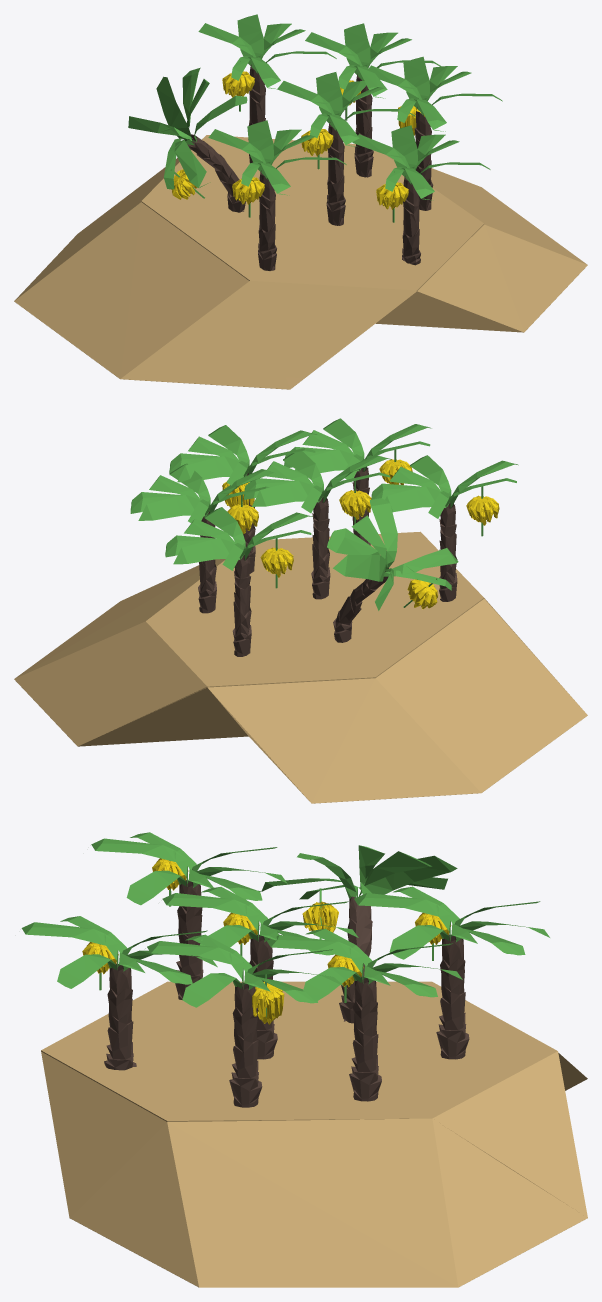
The model's file is Insel2.fbx.
The picture shows the model from 3 angles, top to bottom: view 1: azimuth 30°, elevation 25°; view 2: azimuth 150°, elevation 25°; view 3: azimuth 270°, elevation 25°; orthographic projection. The views are drawn at different scales.
Visible parts, largest first — view 1: Landschaft, Blätter_10, Blätter_8, Blätter, Blätter_4, Blätter_14, Blätter_12, Blätter_6, Stamm_12, Stamm, Stamm_4, Stamm_10 (+8 smaller); view 2: Landschaft, Blätter_10, Blätter_8, Blätter_12, Blätter, Blätter_14, Blätter_6, Blätter_4, Stamm_12, Stamm_8, Stamm, Stamm_10 (+6 smaller); view 3: Landschaft, Blätter_10, Blätter, Blätter_8, Blätter_4, Blätter_6, Blätter_14, Blätter_12, Stamm_6, Stamm_8, Stamm_14, Stamm_4 (+5 smaller).
Part boxes in pixels (left/top/right/bottom): Landschaft: left=14, top=135, right=587, bottom=389; Blätter_10: left=128, top=67, right=247, bottom=189; Blätter_8: left=198, top=14, right=336, bottom=89; Blätter: left=208, top=120, right=346, bottom=195; Blätter_4: left=352, top=125, right=490, bottom=200; Blätter_14: left=368, top=56, right=502, bottom=131; Blätter_12: left=277, top=72, right=415, bottom=146; Blätter_6: left=305, top=23, right=441, bottom=98; Stamm_12: left=326, top=122, right=345, bottom=225; Stamm: left=258, top=170, right=276, bottom=270; Stamm_4: left=402, top=176, right=420, bottom=265; Stamm_10: left=187, top=134, right=245, bottom=212; Landschaft: left=14, top=531, right=587, bottom=803; Blätter_10: left=327, top=498, right=458, bottom=610; Blätter_8: left=165, top=507, right=312, bottom=570; Blätter_12: left=244, top=449, right=391, bottom=513; Blätter: left=371, top=455, right=518, bottom=518; Blätter_14: left=169, top=425, right=316, bottom=488; Blätter_6: left=130, top=463, right=273, bottom=522; Blätter_4: left=284, top=418, right=431, bottom=482; Stamm_12: left=311, top=497, right=330, bottom=599; Stamm_8: left=232, top=554, right=251, bottom=656; Stamm: left=439, top=502, right=457, bottom=601; Stamm_10: left=333, top=568, right=388, bottom=642; Landschaft: left=41, top=981, right=587, bottom=1287; Blätter_10: left=258, top=845, right=457, bottom=899; Blätter: left=91, top=832, right=287, bottom=905; Blätter_8: left=354, top=886, right=549, bottom=959; Blätter_4: left=21, top=916, right=217, bottom=988; Blätter_6: left=267, top=928, right=462, bottom=1001; Blätter_14: left=145, top=934, right=342, bottom=1007; Blätter_12: left=162, top=887, right=358, bottom=955; Stamm_6: left=349, top=976, right=381, bottom=1101; Stamm_8: left=436, top=934, right=469, bottom=1059; Stamm_14: left=229, top=982, right=262, bottom=1107; Stamm_4: left=104, top=964, right=136, bottom=1070.
Size of the model in its own units: 5311 by 2282 by 4629.
4 materials, 3 textured.
